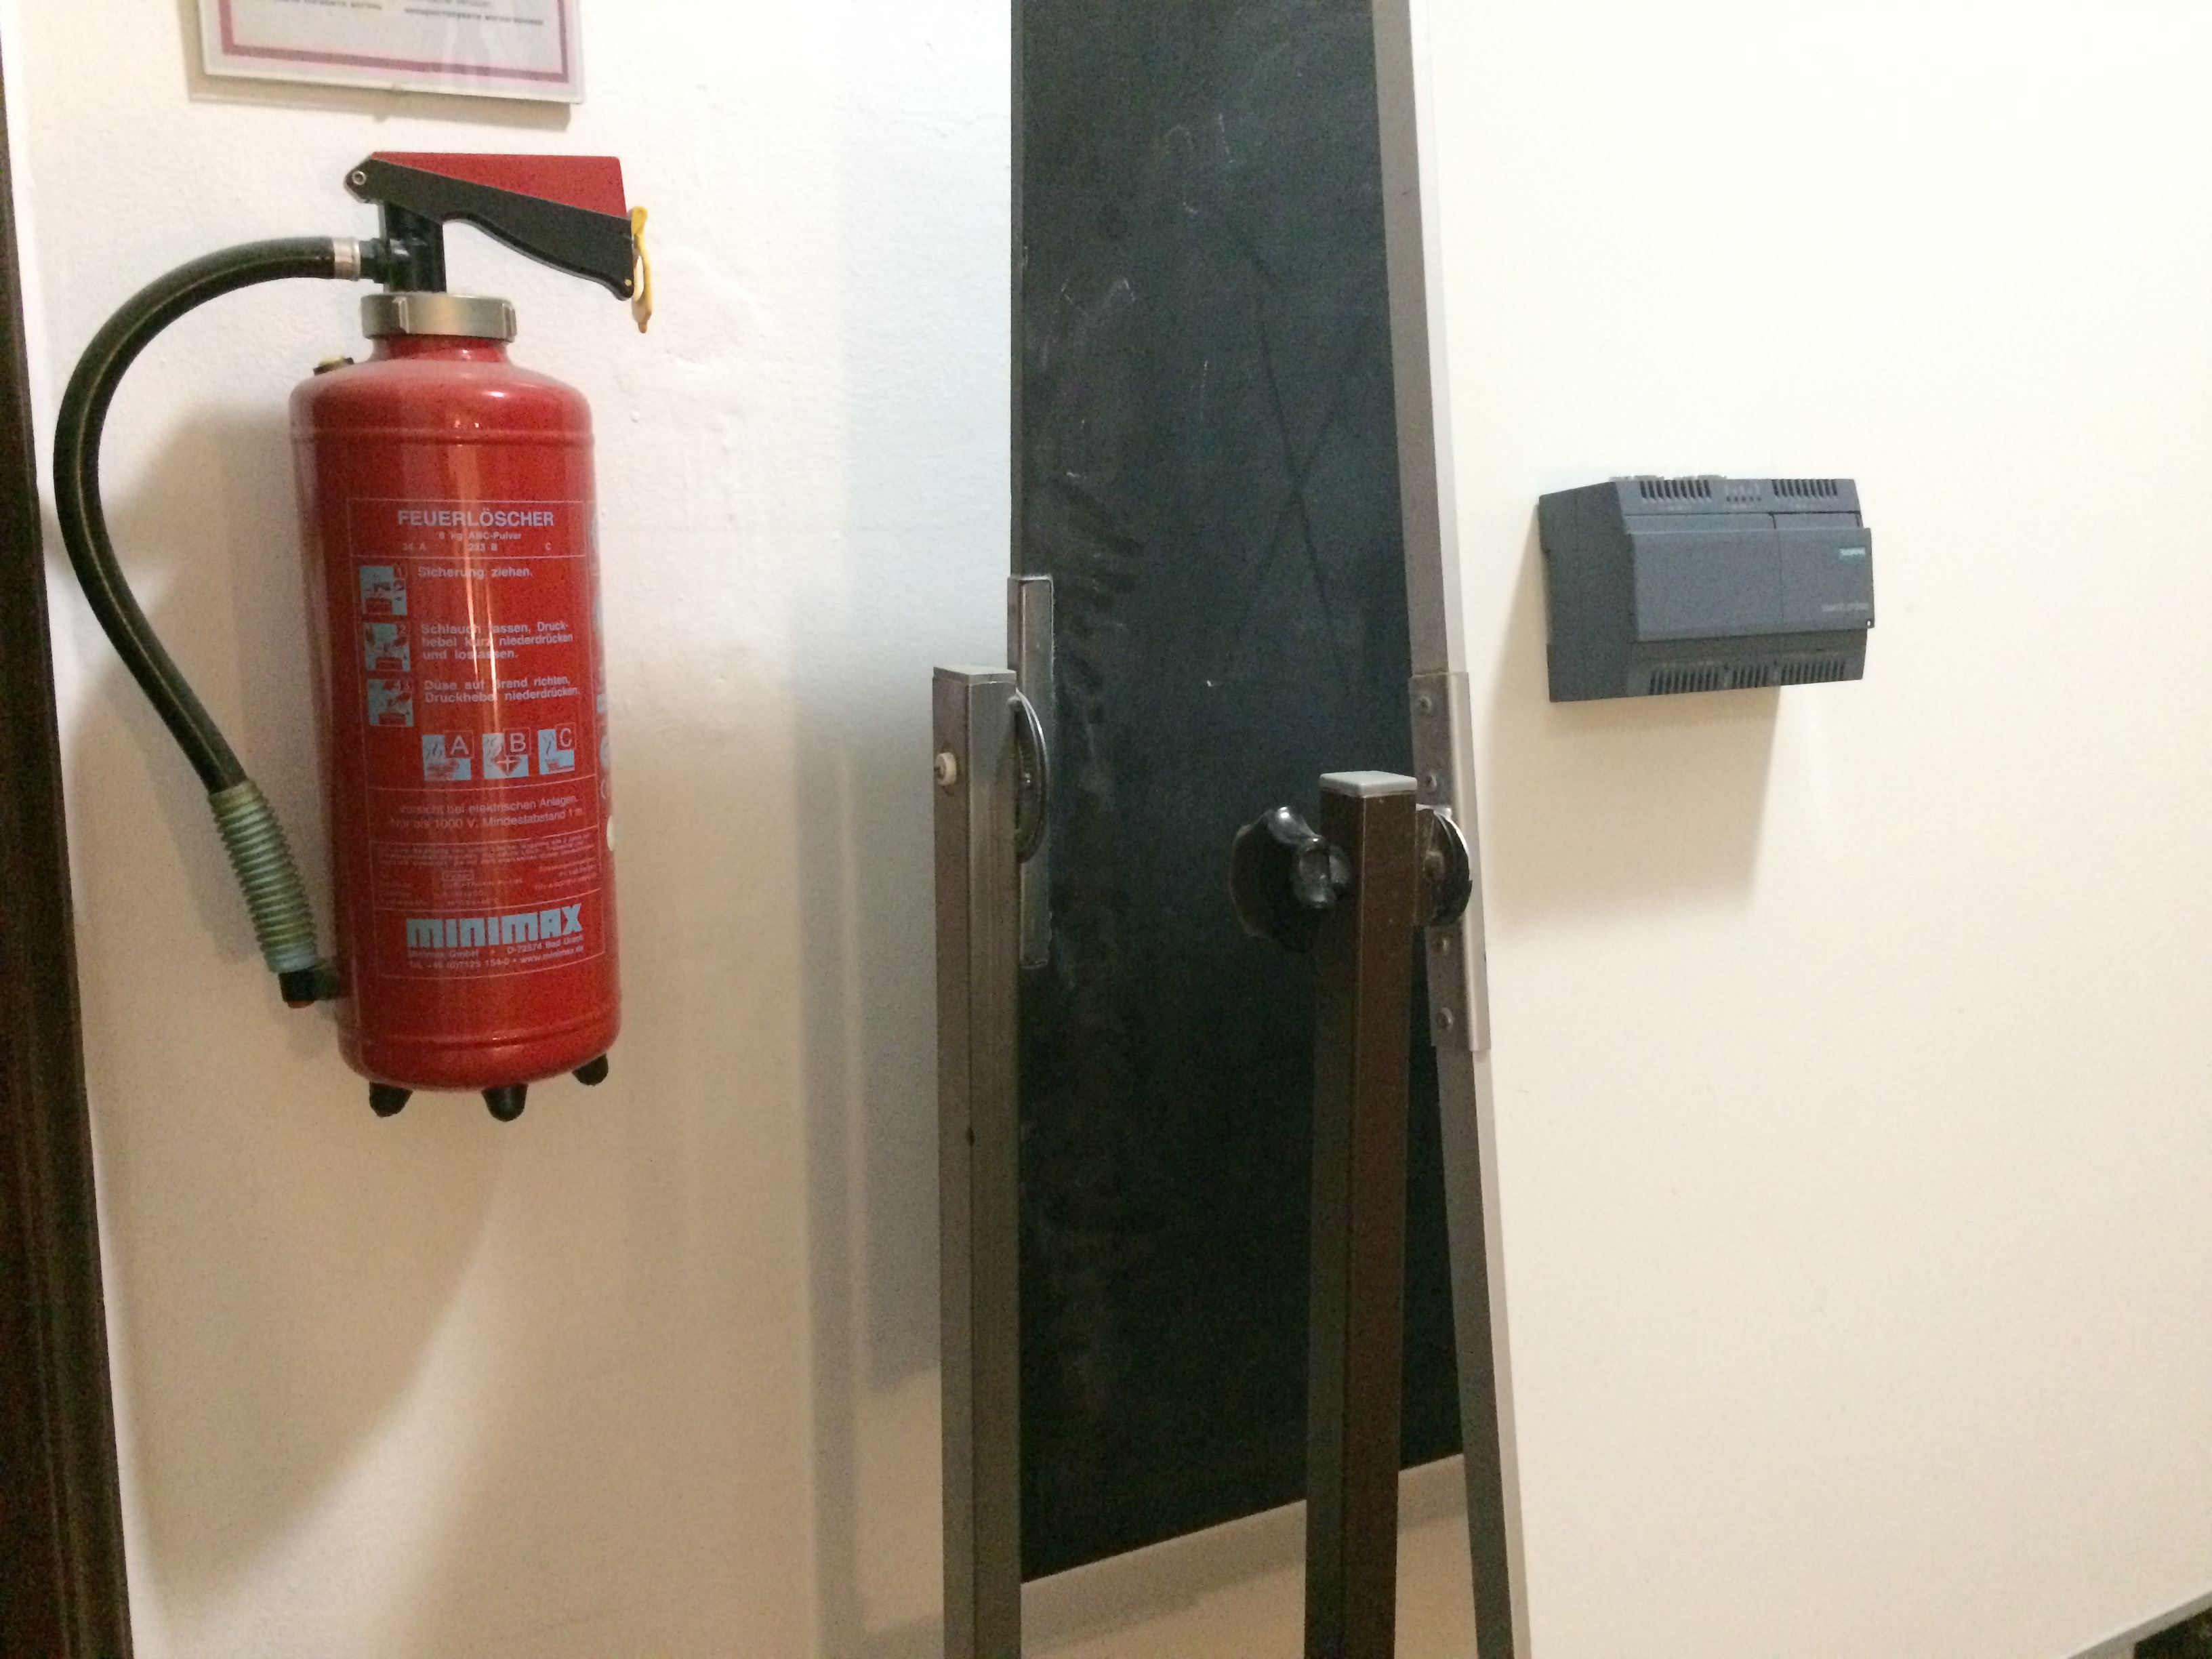iot2000: (1534, 472, 1879, 708)
